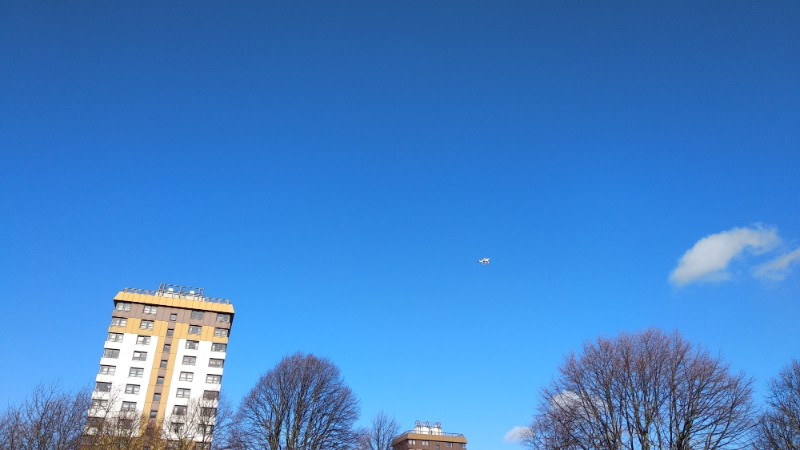drone: (477, 256, 490, 265)
